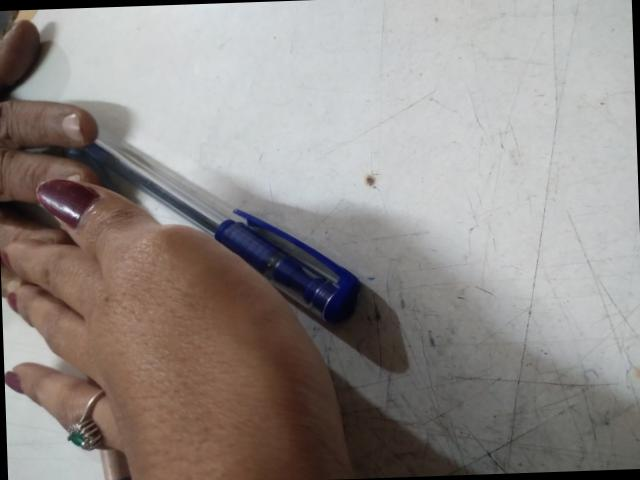PEN: (149, 73, 362, 397)
